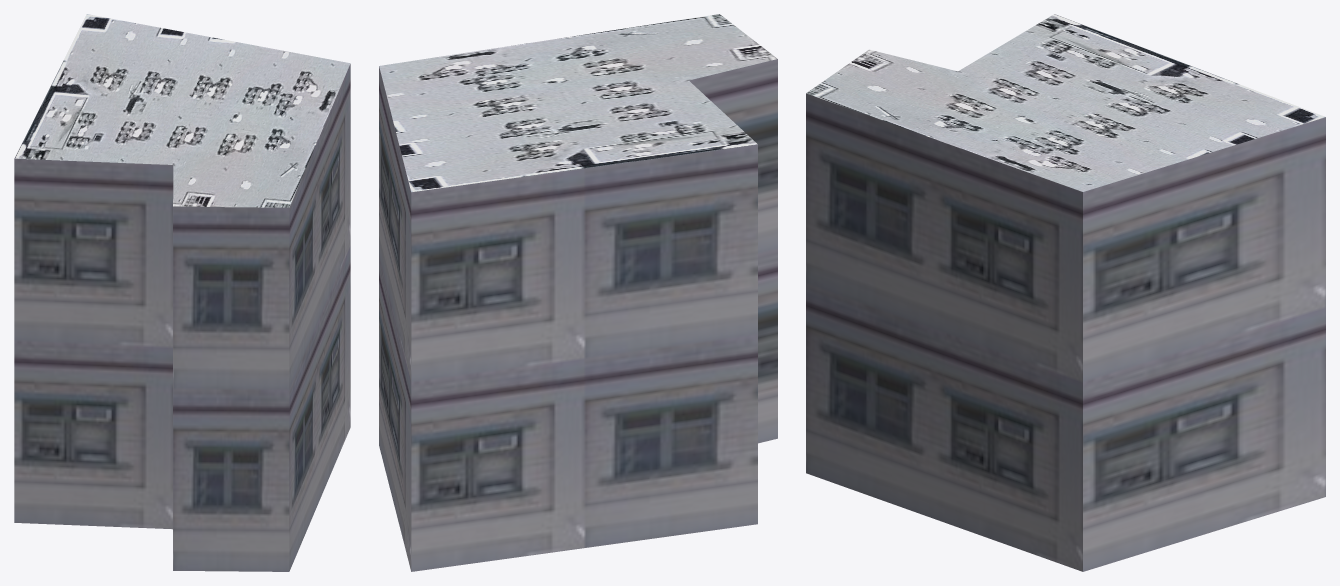
File: ResTex__3161.fbx
The picture shows the model from 3 angles, left to right: view 1: azimuth 30°, elevation 25°; view 2: azimuth 150°, elevation 25°; view 3: azimuth 270°, elevation 25°; orthographic projection. The views are drawn at different scales.
Parts seen in each view (by area): view 1: CityEngineMaterial_1_m, CityEngineMaterial_8_m; view 2: CityEngineMaterial_1_m, CityEngineMaterial_8_m; view 3: CityEngineMaterial_1_m, CityEngineMaterial_8_m.
Part boxes in pixels (x1,y1,x2,y2): CityEngineMaterial_1_m: [14, 64, 350, 571]; CityEngineMaterial_8_m: [14, 14, 350, 207]; CityEngineMaterial_1_m: [379, 59, 777, 571]; CityEngineMaterial_8_m: [379, 14, 777, 192]; CityEngineMaterial_1_m: [806, 93, 1325, 571]; CityEngineMaterial_8_m: [806, 14, 1325, 191].
Size of the model in its own units: 6.03 by 6 by 7.44.
Materials: 2 (2 with a texture image).
